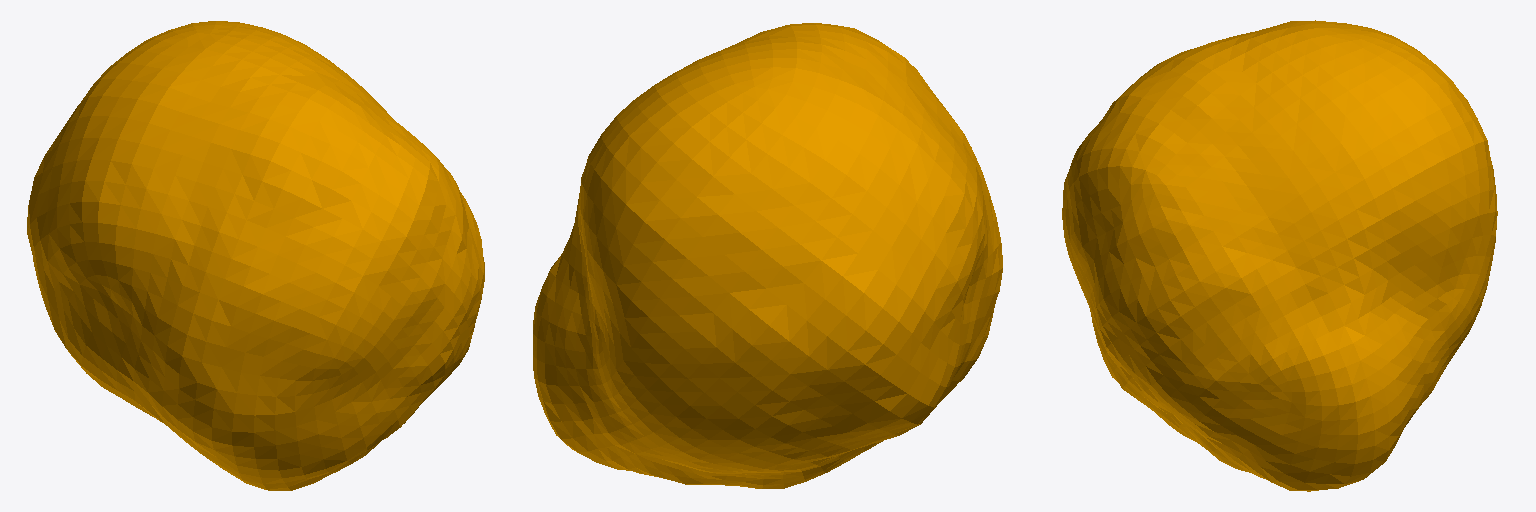
robot.urdf — rock:
<?xml version="1.0" ?>
<robot name="rock">
  <link name="rock">
    <inertial>
      <mass value="0.312"/>
      <origin rpy="0 0 0" xyz="0 0 0"/>
      <inertia ixx="0.000312" ixy="0" ixz="0" iyy="0.000312" iyz="0" izz="0.000312"/>
    </inertial>
    <collision name="rock_collision">
      <origin rpy="0 0 0" xyz="0 0 0"/>
      <geometry>
        <mesh filename="package://rocks/visual/252.dae" scale="1 1 1"/>
      </geometry>
    </collision>
    <visual name="rock_visual">
      <origin rpy="0 0 0" xyz="0 0 0"/>
      <geometry>
        <mesh filename="package://rocks/visual/252.dae" scale="1 1 1"/>
      </geometry>
    </visual>
  </link>
</robot>

--- Render facts (derived) ---
Views: 3 orthographic renders of the robot side by side, from view 1: azimuth 30°, elevation 25°; view 2: azimuth 150°, elevation 25°; view 3: azimuth 270°, elevation 25°.
Robot: rock — 1 links, 0 joints (none); root link rock; default pose: all joints at 0.
Links seen in each view (by area): view 1: rock; view 2: rock; view 3: rock.
Boxes of the visible links, box(x1,y1,x2,y2) form: rock: box(27, 21, 484, 490); rock: box(533, 23, 1002, 488); rock: box(1062, 20, 1497, 491).
Size in the robot's own frame: 0.0505 by 0.0527 by 0.0529 metres.
Meshes: 1 distinct files referenced, 1 mesh visuals loaded (1 Collada DAE).